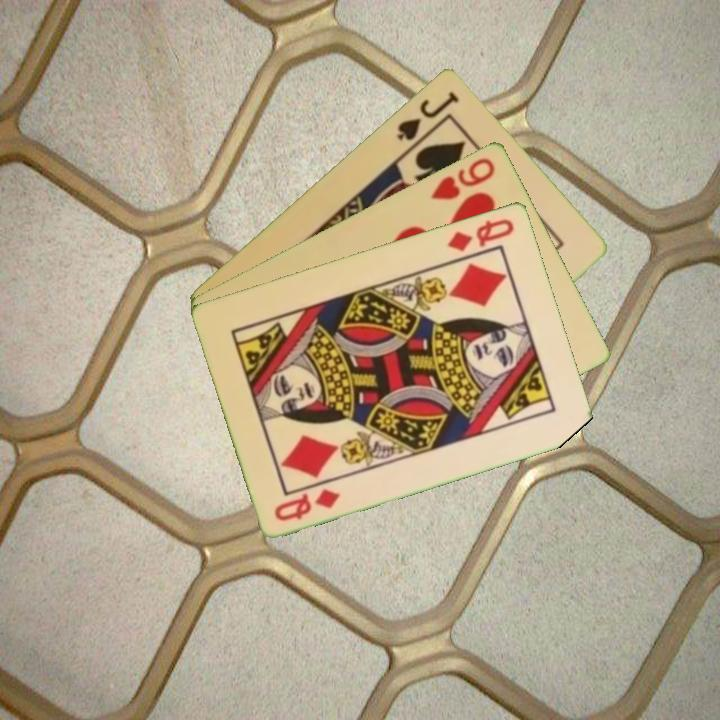9h: (427, 153, 498, 203)
Js: (393, 87, 462, 143)
Qd: (444, 214, 518, 254), (270, 484, 344, 524)
